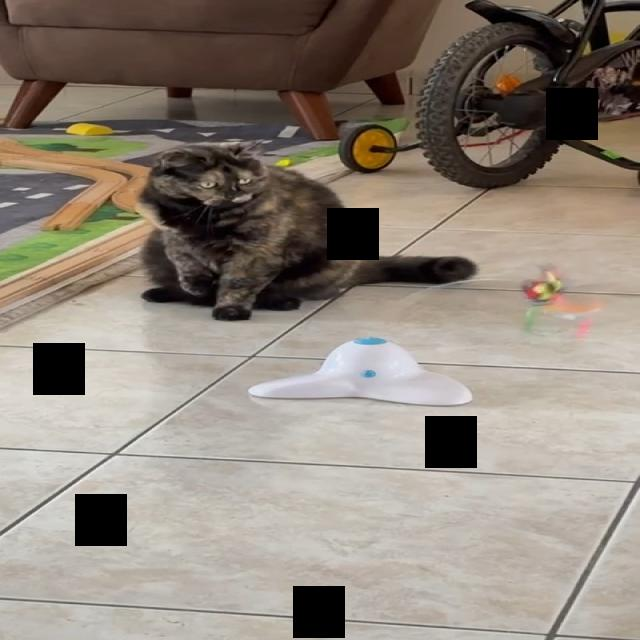authorized: (134, 138, 478, 321)
